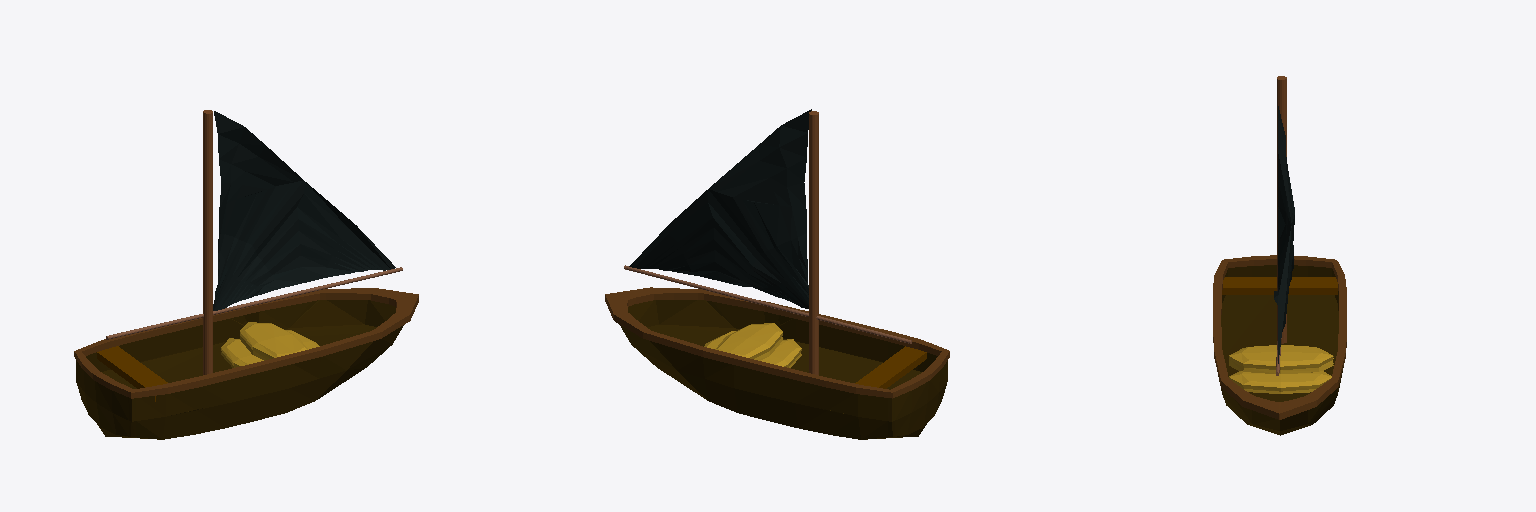
3 views of the same model, side by side, from view 1: azimuth 30°, elevation 25°; view 2: azimuth 150°, elevation 25°; view 3: azimuth 270°, elevation 25° (orthographic).
Visible parts, largest first — view 1: Cube_Cube.002, Plane.001, Cube.005_Cube.001, Cylinder.002, Cube.004_Cube.001, Cube.001_Cube.001, Cylinder.003, Cube.003_Cube.001; view 2: Cube_Cube.002, Plane.001, Cube.005_Cube.001, Cylinder.002, Cube.004_Cube.001, Cube.001_Cube.001, Cylinder.003, Cube.003_Cube.001; view 3: Cube_Cube.002, Cube.005_Cube.001, Plane.001, Cube.004_Cube.001, Cube.001_Cube.001, Cube.002_Cube.001, Cylinder.002.
Part boxes in pixels (left/top/right/bottom): Cube_Cube.002: left=76, top=300, right=403, bottom=439; Plane.001: left=213, top=111, right=395, bottom=310; Cube.005_Cube.001: left=74, top=288, right=418, bottom=398; Cylinder.002: left=203, top=110, right=212, bottom=374; Cube.004_Cube.001: left=240, top=322, right=307, bottom=360; Cube.001_Cube.001: left=97, top=346, right=167, bottom=401; Cylinder.003: left=106, top=267, right=402, bottom=339; Cube.003_Cube.001: left=221, top=338, right=263, bottom=367; Cube_Cube.002: left=619, top=300, right=947, bottom=439; Plane.001: left=629, top=109, right=811, bottom=308; Cube.005_Cube.001: left=605, top=287, right=949, bottom=398; Cylinder.002: left=809, top=111, right=818, bottom=374; Cube.004_Cube.001: left=715, top=323, right=782, bottom=360; Cube.001_Cube.001: left=855, top=346, right=926, bottom=388; Cylinder.003: left=624, top=265, right=911, bottom=343; Cube.003_Cube.001: left=761, top=339, right=801, bottom=367; Cube_Cube.002: left=1218, top=265, right=1343, bottom=435; Cube.005_Cube.001: left=1213, top=255, right=1346, bottom=419; Plane.001: left=1274, top=106, right=1294, bottom=363; Cube.004_Cube.001: left=1229, top=345, right=1333, bottom=373; Cube.001_Cube.001: left=1222, top=277, right=1337, bottom=294; Cube.002_Cube.001: left=1229, top=371, right=1331, bottom=393; Cylinder.002: left=1277, top=76, right=1286, bottom=343.
Size of the model in its own units: 6.78 by 6.25 by 2.43.
Materials: 9 (7 with a texture image).